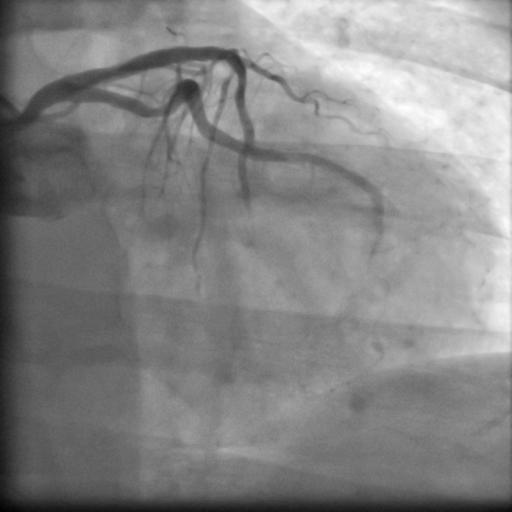Stenosis: (141, 102, 166, 120)
